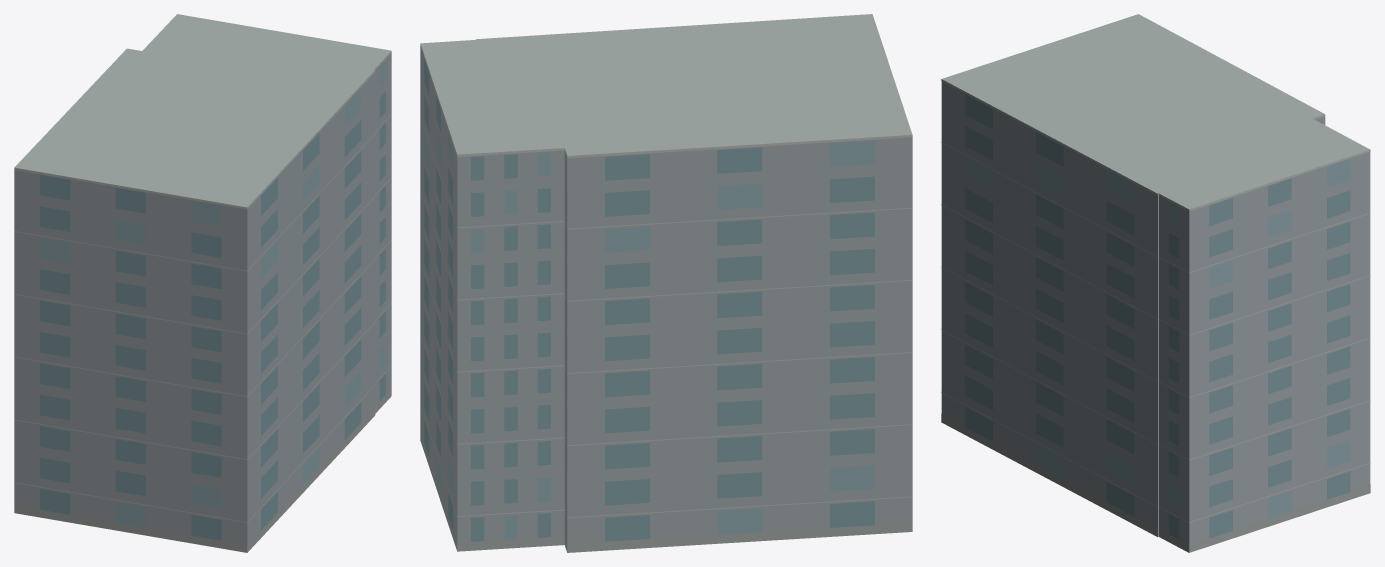
File: residential-82263ad2-c9c7-4806-bccc-f828001f7410.glb
3 renders of one model, left to right at view 1: azimuth 30°, elevation 25°; view 2: azimuth 150°, elevation 25°; view 3: azimuth 270°, elevation 25°, orthographic. The views are drawn at different scales.
Visible parts, largest first — view 1: residential-82263ad2-c9c7-4806-bccc-f828001f7410.tmp; view 2: residential-82263ad2-c9c7-4806-bccc-f828001f7410.tmp; view 3: residential-82263ad2-c9c7-4806-bccc-f828001f7410.tmp.
Part boxes in pixels (bbox=[...]): residential-82263ad2-c9c7-4806-bccc-f828001f7410.tmp: bbox=[14, 14, 391, 552]; residential-82263ad2-c9c7-4806-bccc-f828001f7410.tmp: bbox=[420, 14, 912, 552]; residential-82263ad2-c9c7-4806-bccc-f828001f7410.tmp: bbox=[941, 14, 1370, 552].
Size of the model in its own units: 48.83 by 40 by 45.3.
